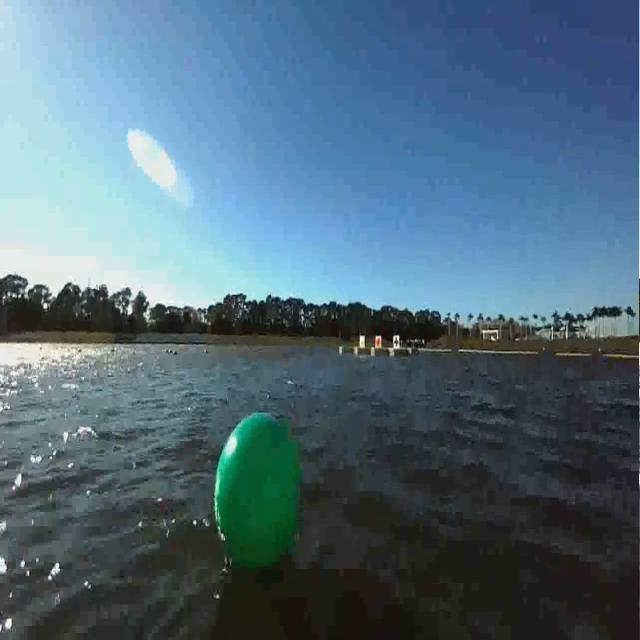green-buoy: (211, 409, 303, 572)
